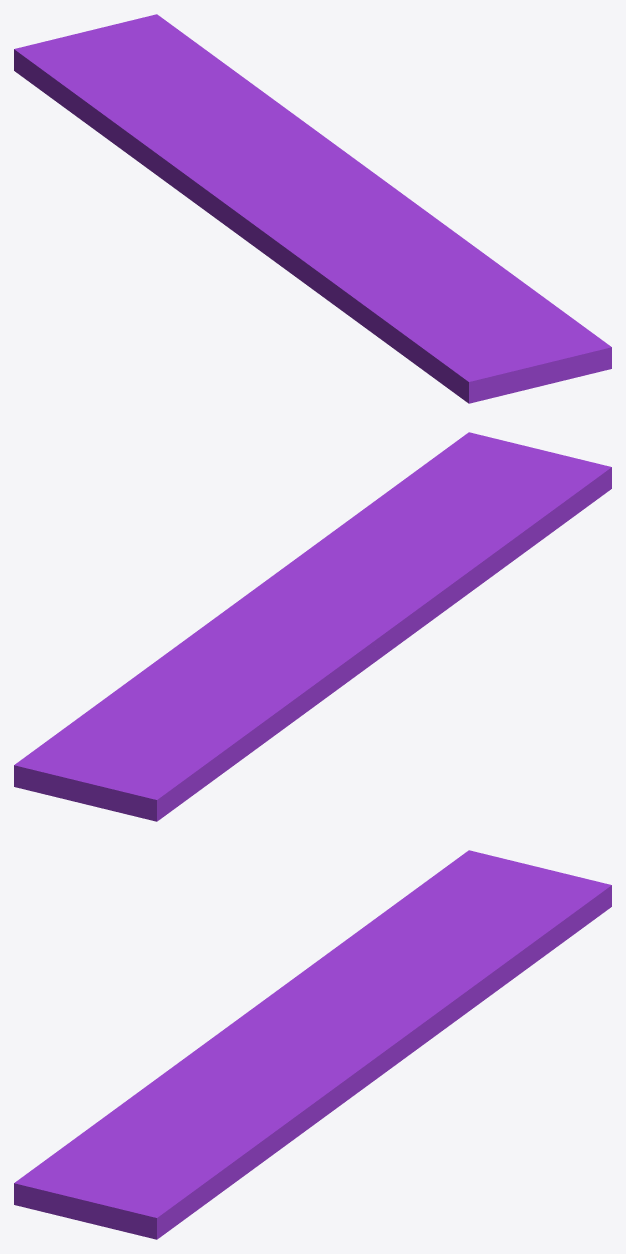
File: StairsStep_54_chunks.fbx
The picture shows the model from 3 angles, top to bottom: view 1: azimuth 30°, elevation 25°; view 2: azimuth 150°, elevation 25°; view 3: azimuth 330°, elevation 25°; orthographic projection.
Visible parts, largest first — view 1: StairsStep_54_6, StairsStep_54_3, StairsStep_54_2, StairsStep_54_9, StairsStep_54_8, StairsStep_54_1, StairsStep_54_4, StairsStep_54_5, StairsStep_54_0; view 2: StairsStep_54_6, StairsStep_54_3, StairsStep_54_2, StairsStep_54_9, StairsStep_54_8, StairsStep_54_1, StairsStep_54_4, StairsStep_54_5, StairsStep_54_0; view 3: StairsStep_54_6, StairsStep_54_3, StairsStep_54_1, StairsStep_54_2, StairsStep_54_8, StairsStep_54_9, StairsStep_54_4, StairsStep_54_5.
Boxes of the visible parts, x1=… form: StairsStep_54_6: x1=342, y1=261, x2=611, y2=403; StairsStep_54_3: x1=14, y1=14, x2=220, y2=150; StairsStep_54_2: x1=117, y1=123, x2=312, y2=215; StairsStep_54_9: x1=255, y1=197, x2=396, y2=310; StairsStep_54_8: x1=345, y1=199, x2=504, y2=269; StairsStep_54_1: x1=268, y1=95, x2=416, y2=204; StairsStep_54_4: x1=218, y1=95, x2=320, y2=199; StairsStep_54_5: x1=180, y1=61, x2=266, y2=129; StairsStep_54_0: x1=209, y1=213, x2=272, y2=256; StairsStep_54_6: x1=363, y1=432, x2=611, y2=580; StairsStep_54_3: x1=14, y1=702, x2=266, y2=821; StairsStep_54_2: x1=219, y1=615, x2=384, y2=740; StairsStep_54_9: x1=299, y1=554, x2=485, y2=635; StairsStep_54_8: x1=274, y1=510, x2=399, y2=603; StairsStep_54_1: x1=125, y1=574, x2=306, y2=683; StairsStep_54_4: x1=124, y1=614, x2=315, y2=685; StairsStep_54_5: x1=78, y1=684, x2=226, y2=718; StairsStep_54_0: x1=352, y1=623, x2=411, y2=678; StairsStep_54_6: x1=14, y1=1090, x2=263, y2=1239; StairsStep_54_3: x1=366, y1=850, x2=611, y2=967; StairsStep_54_1: x1=319, y1=966, x2=527, y2=1100; StairsStep_54_2: x1=241, y1=926, x2=406, y2=1034; StairsStep_54_8: x1=226, y1=1046, x2=351, y2=1163; StairsStep_54_9: x1=141, y1=1026, x2=326, y2=1096; StairsStep_54_4: x1=310, y1=965, x2=501, y2=1036; StairsStep_54_5: x1=399, y1=931, x2=547, y2=967.
Size of the model in its own units: 200 by 28.98 by 1102.
